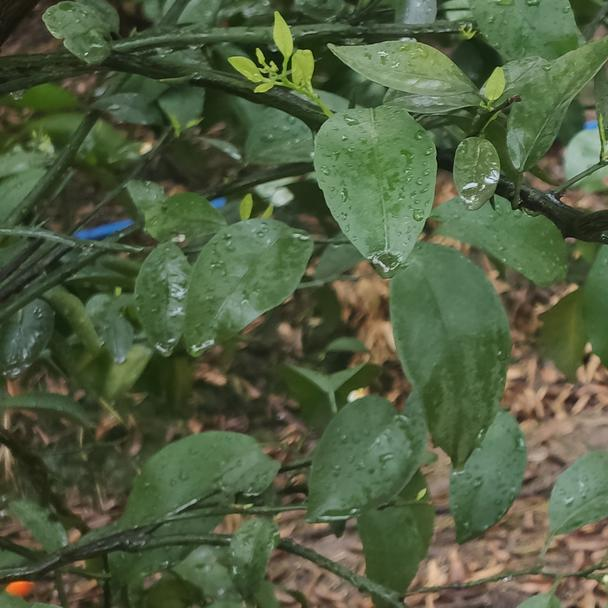shoot: (226, 15, 331, 114)
